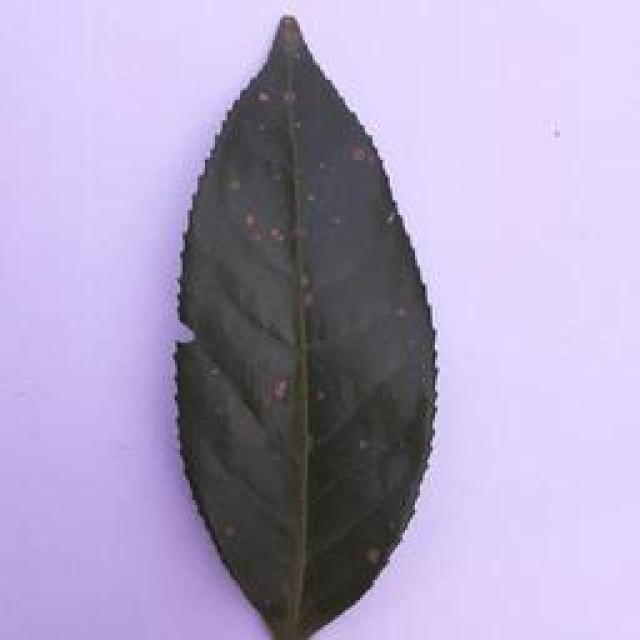Algal Leaf Spot: (169, 7, 442, 640)
